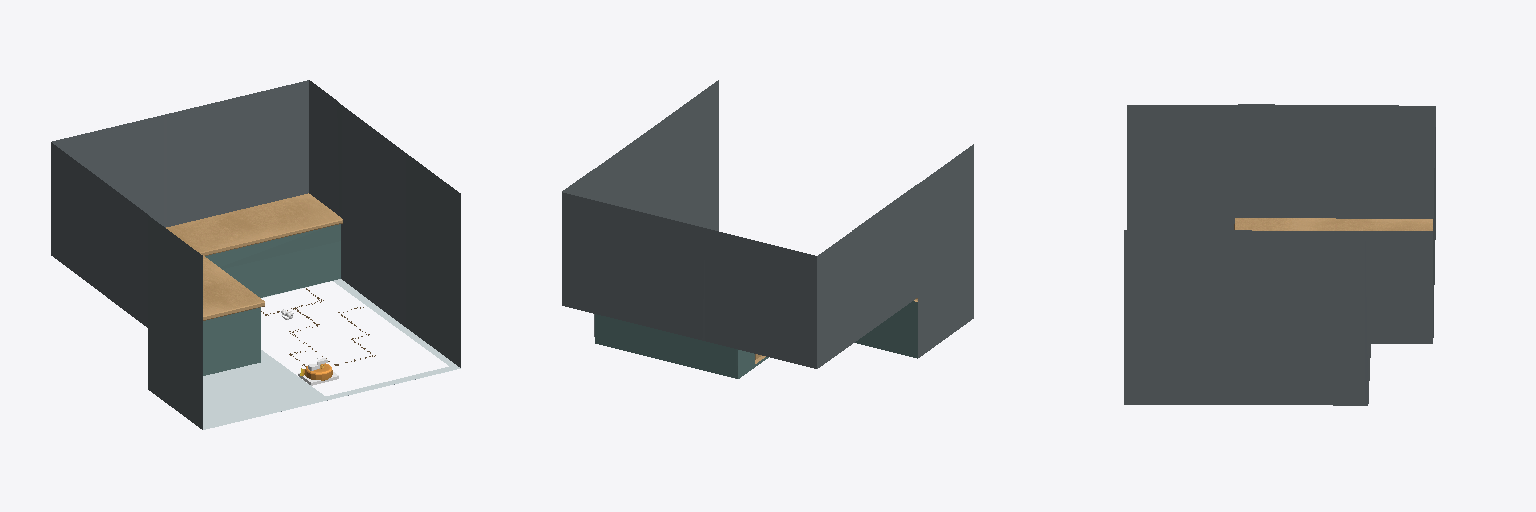
3 renders of one model, left to right at view 1: azimuth 30°, elevation 25°; view 2: azimuth 150°, elevation 25°; view 3: azimuth 270°, elevation 25°, orthographic.
Parts seen in each view (by area): view 1: BG_Kitchen_Table_Thing1; view 2: BG_Kitchen_Table_Thing1; view 3: BG_Kitchen_Table_Thing1.
Part boxes in pixels (bbox=[...]): BG_Kitchen_Table_Thing1: bbox=[51, 80, 460, 429]; BG_Kitchen_Table_Thing1: bbox=[562, 80, 973, 378]; BG_Kitchen_Table_Thing1: bbox=[1124, 104, 1435, 405].
Bounding box in the file's own units: 92.3 × 60.21 × 96.1.
Materials: 11 (5 with a texture image).